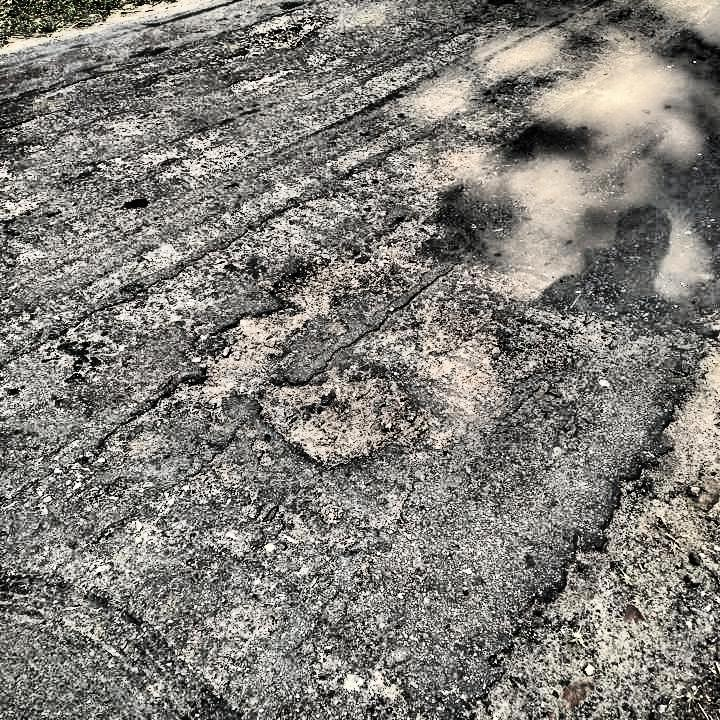pothole: (494, 435, 719, 719), (161, 255, 352, 412), (256, 358, 406, 470), (252, 14, 328, 48)
